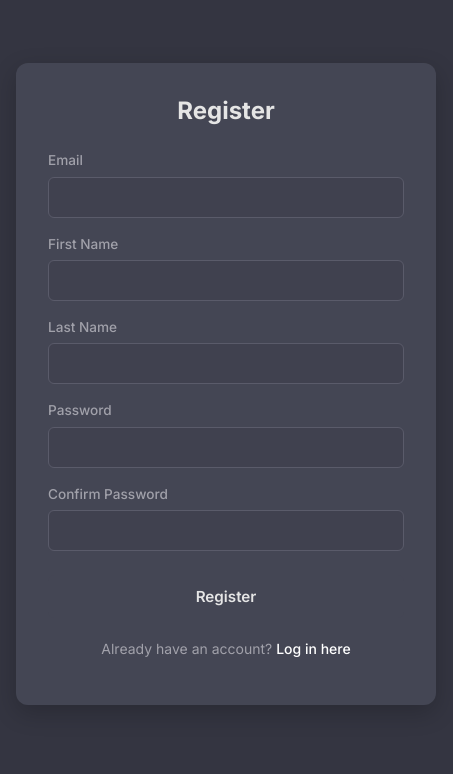
Test: Register page › shows error when password lacks uppercase on submit
The width and height of the screenshot is (453, 774).
Type "user@example.com" into the field labelled "Email".
click(226, 197); type("user@example.com")  # box [48,176,404,218]
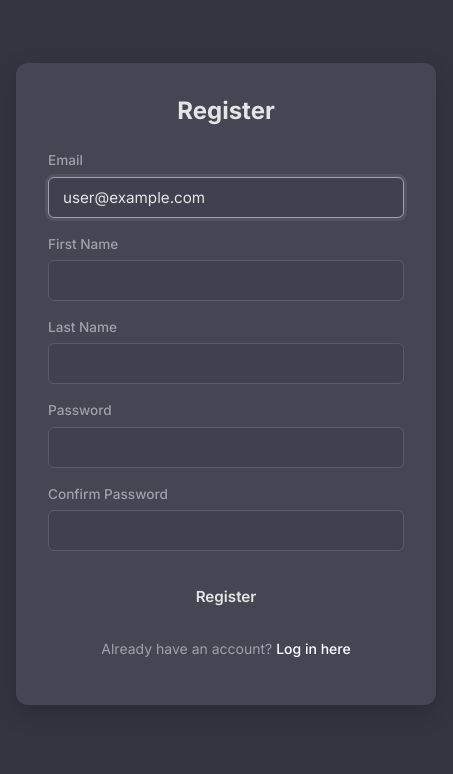
Type "John" into the field labelled "First Name".
click(226, 280); type("John")  # box [48,260,404,301]
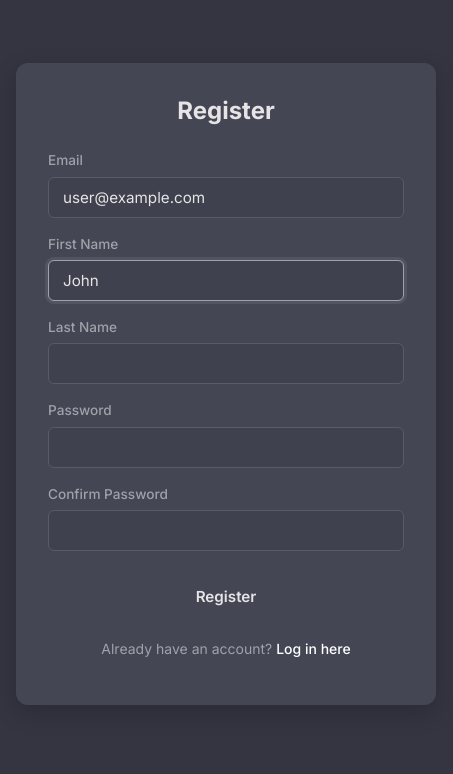
Type "Doe" into the field labelled "Last Name".
click(226, 364); type("Doe")  # box [48,343,404,384]
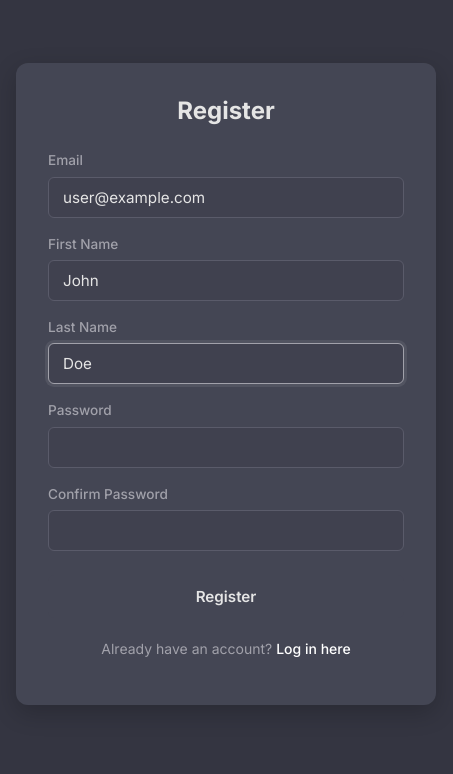
Type "password1" into the password field labelled "Password".
click(226, 447); type("password1")  # box [48,427,404,468]
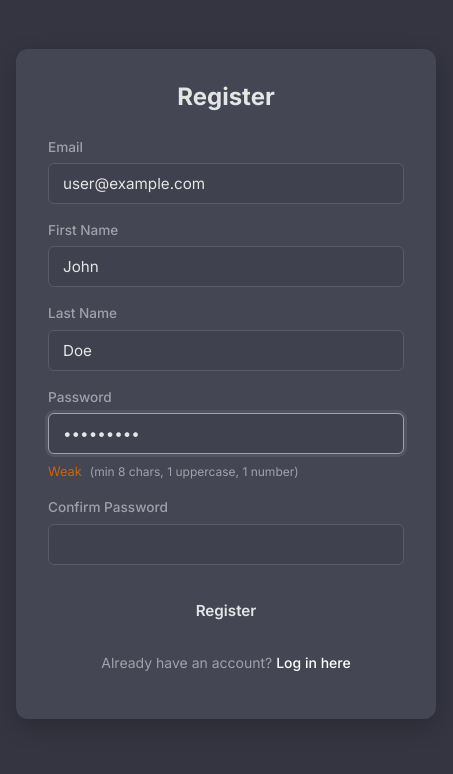
Type "password1" into the password field labelled "Confirm Password".
click(226, 544); type("password1")  # box [48,524,404,565]
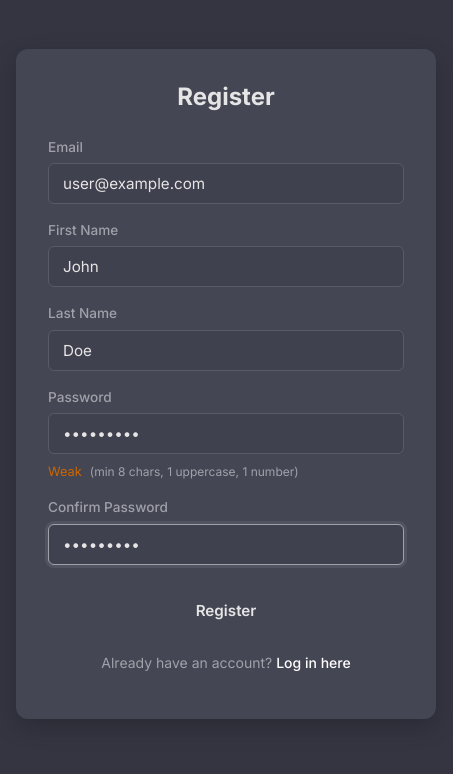
Click the button "Register".
click(226, 610)  # box [48,589,404,632]
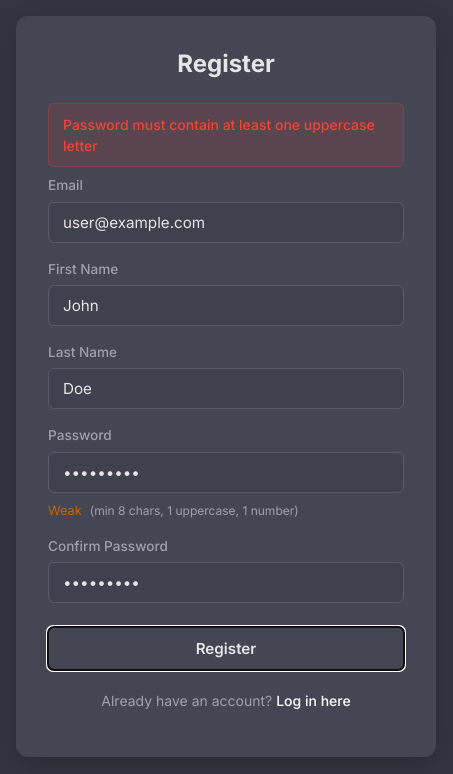
Expected: the text "Password must contain at least one uppercase letter" is shown, [48,103,404,167]
